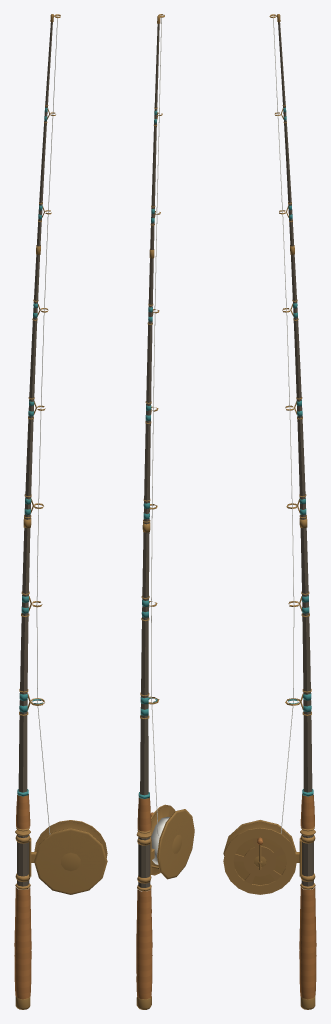
File: tool_fishing_rod_master_a.glb
3 views of the same model, side by side, from view 1: azimuth 90°, elevation 25°; view 2: azimuth 150°, elevation 25°; view 3: azimuth 270°, elevation 25° (orthographic).
Visible parts, largest first — view 1: tool_fishing_rod_master_a_mesh, rod_reel_spool; view 2: tool_fishing_rod_master_a_mesh, rod_reel_spool, rod_reel_line_coil; view 3: tool_fishing_rod_master_a_mesh, rod_reel_spool.
Part boxes in pixels (x1,y1,x2,y2): tool_fishing_rod_master_a_mesh: [14, 16, 107, 1009]; rod_reel_spool: [34, 820, 107, 857]; tool_fishing_rod_master_a_mesh: [136, 17, 194, 1009]; rod_reel_spool: [150, 804, 175, 875]; rod_reel_line_coil: [151, 816, 169, 864]; tool_fishing_rod_master_a_mesh: [223, 16, 316, 1009]; rod_reel_spool: [223, 821, 296, 894].
Bounding box in the file's own units: 0.1004 × 3.37 × 0.286.
